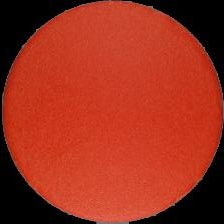0378-2685: (0, 0, 224, 224)
